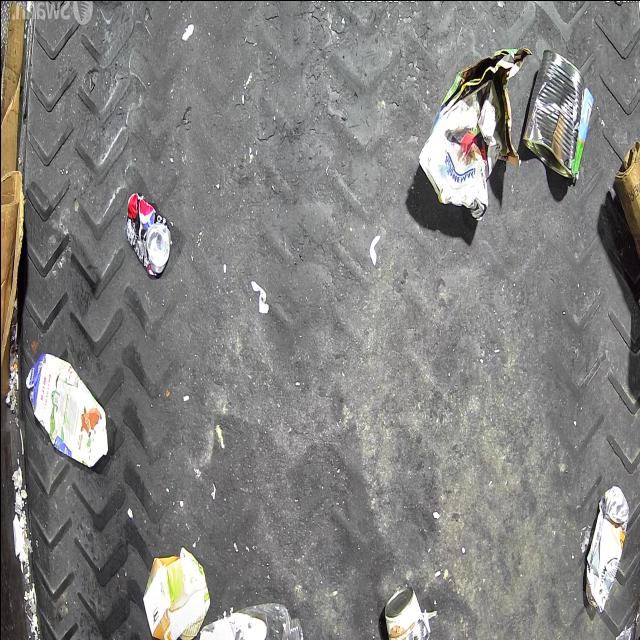can: (520, 47, 584, 178), (584, 484, 628, 613), (124, 192, 170, 276), (383, 587, 429, 640)
non_white_jug: (25, 352, 107, 466), (142, 545, 210, 640)
plastic_bottle: (198, 602, 304, 640)
